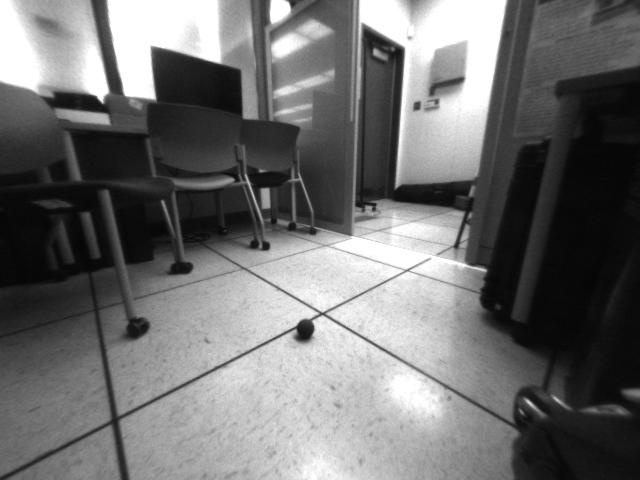dogtoy: (286, 312, 323, 348)
